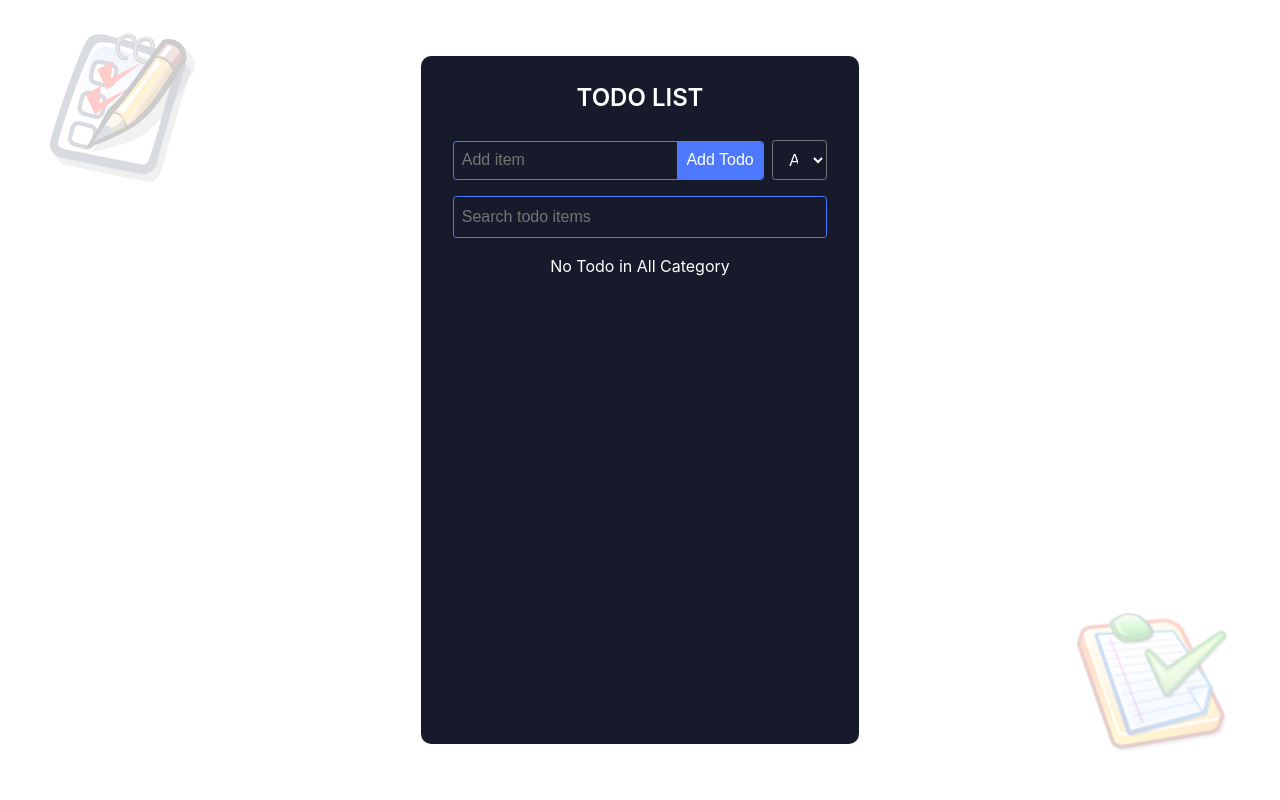
Test: Todo Component › adds a new todo
Type "New Todo" into the field with placeholder "Add item" at x=565, y=160, box [454,143,677,177]
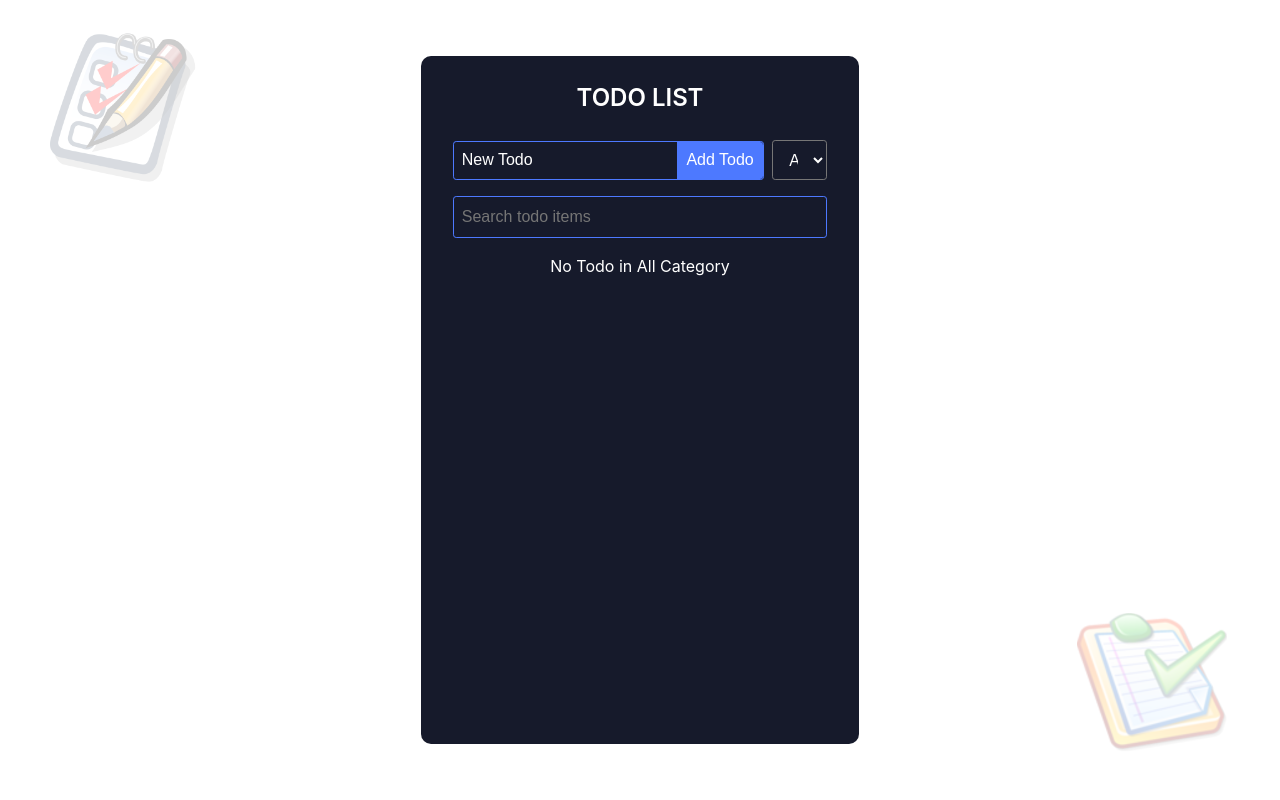
Click the button "Add Todo" at x=720, y=160, box [677,142,763,179]
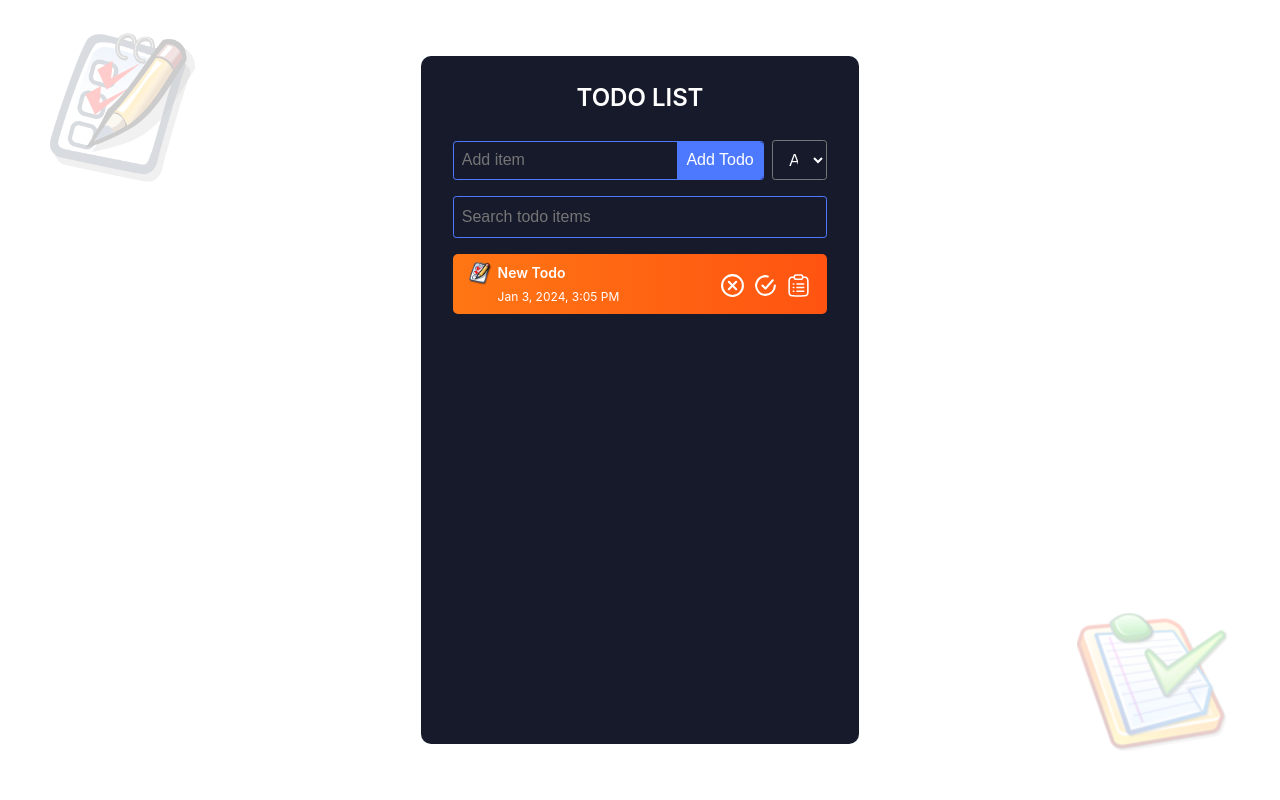
Expected: the text "New Todo" is shown, [498,262,566,283]
